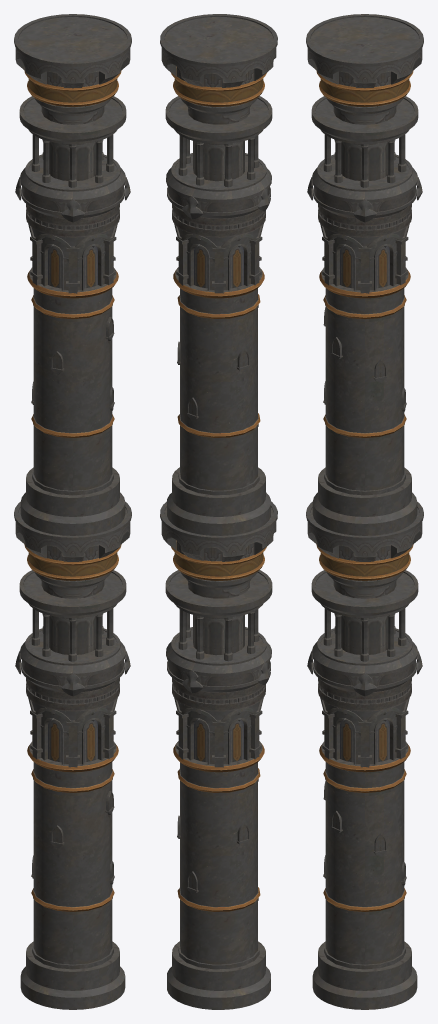
Rendered from SM_ZhuZi02.glb.
The picture shows the model from 3 angles, left to right: view 1: azimuth 90°, elevation 25°; view 2: azimuth 150°, elevation 25°; view 3: azimuth 270°, elevation 25°; orthographic projection.
Visible parts, largest first — view 1: SM_ZhuZi02.001; view 2: SM_ZhuZi02.001; view 3: SM_ZhuZi02.001.
Boxes of the visible parts, bbox=[...] form: SM_ZhuZi02.001: bbox=[14, 14, 131, 1009]; SM_ZhuZi02.001: bbox=[160, 14, 277, 1009]; SM_ZhuZi02.001: bbox=[306, 14, 423, 1009].
Bounding box in the file's own units: 2191 × 19449 × 2191.
Materials: 3 (3 with a texture image).
